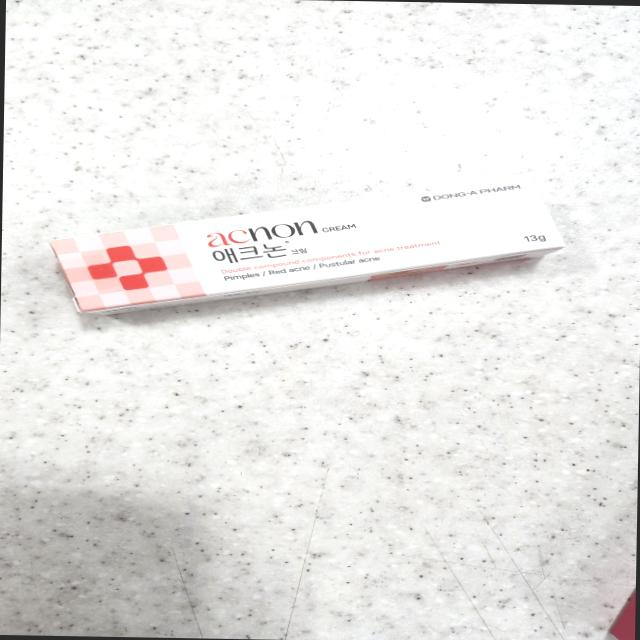box: (50, 170, 565, 322)
